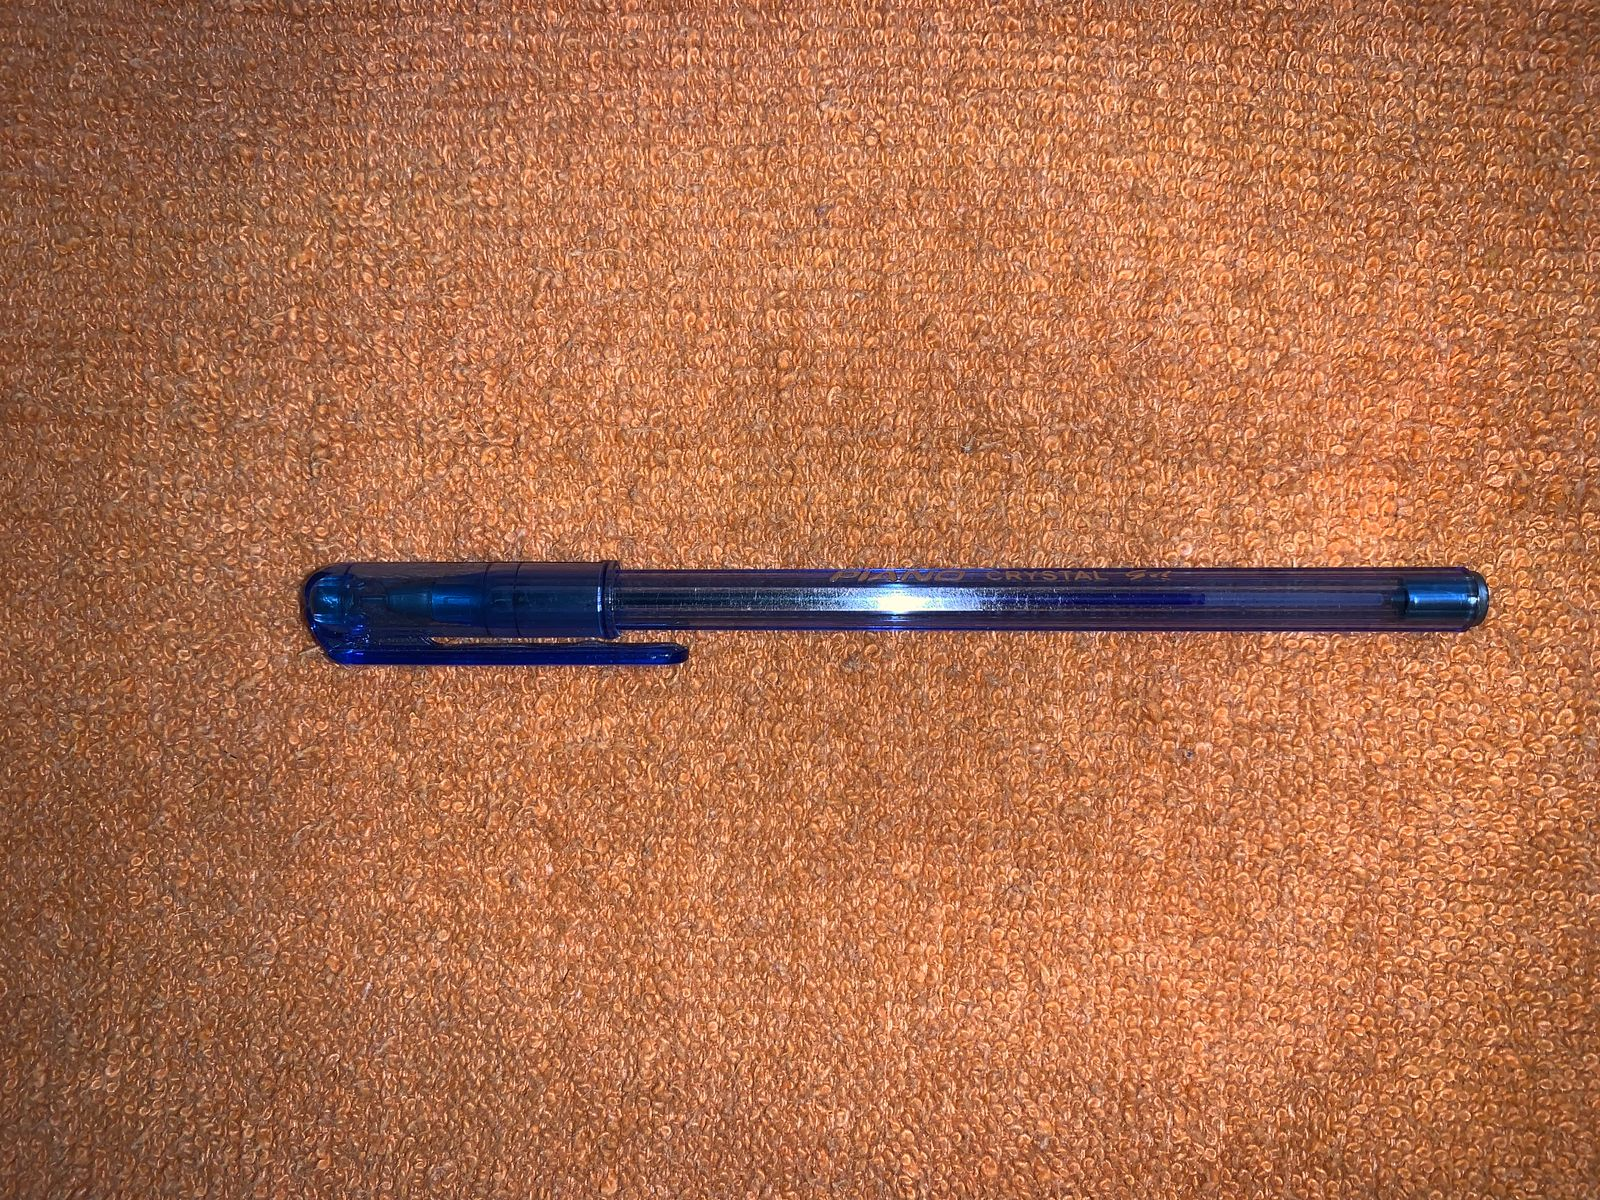pen: (190, 378, 1556, 861)
